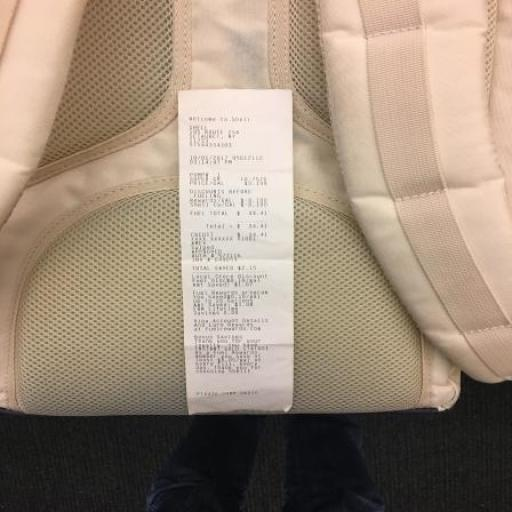paper: (118, 70, 372, 435)
